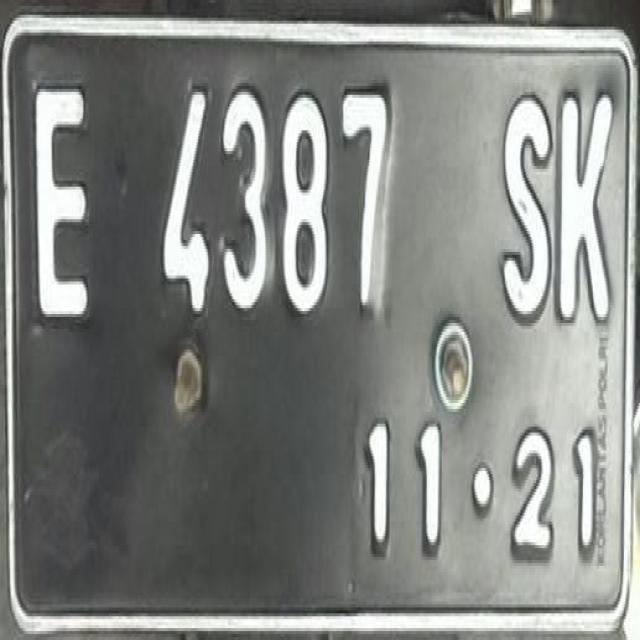3: (218, 83, 272, 317)
4: (161, 81, 214, 322)
7: (336, 82, 394, 330)
8: (274, 85, 334, 328)
E: (31, 74, 94, 329)
K: (553, 66, 614, 342)
S: (498, 77, 556, 326)
